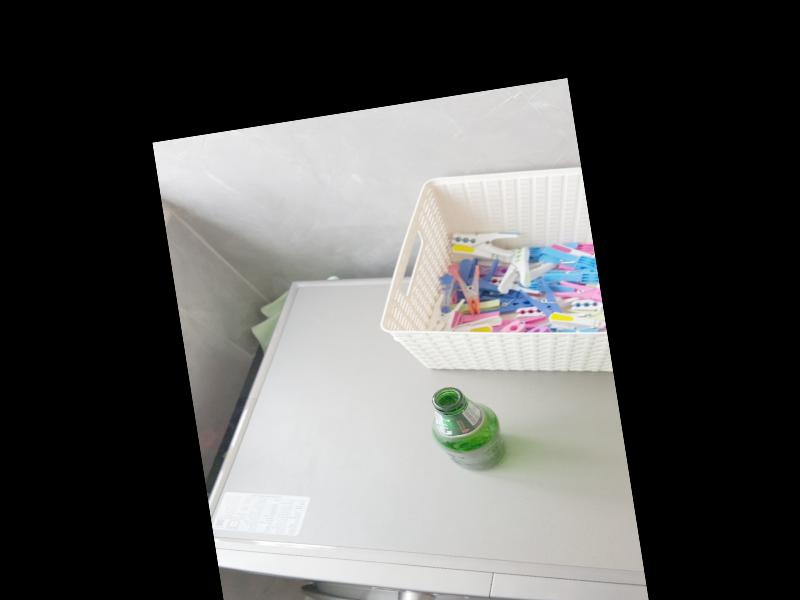Beer: (430, 381, 507, 478)
